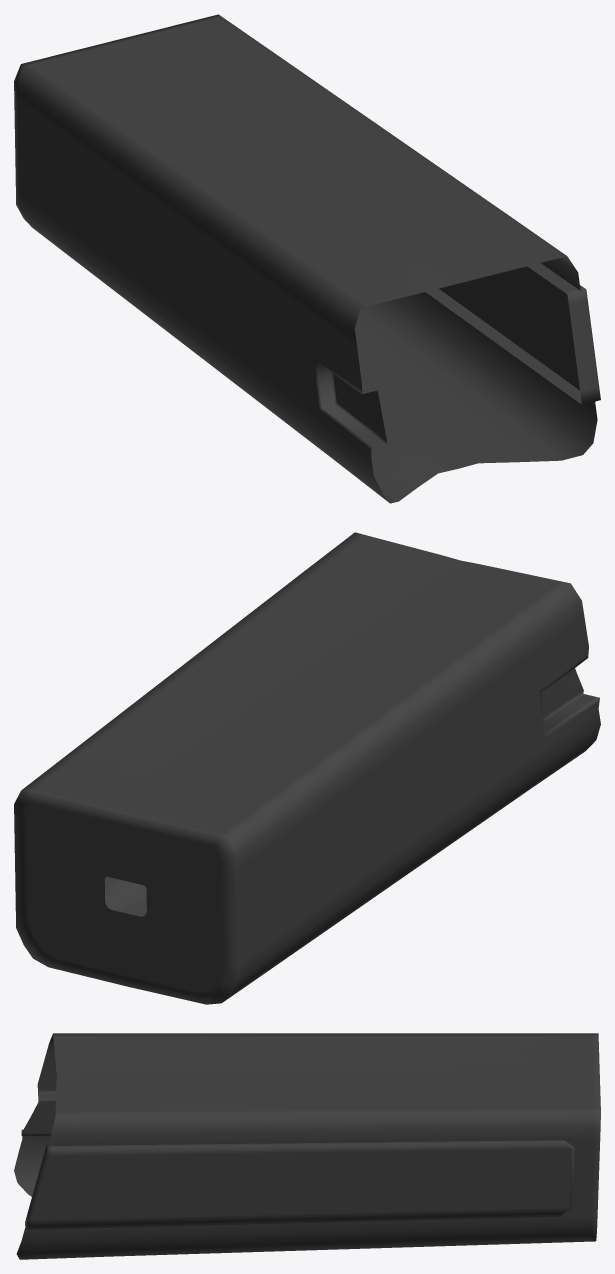
The picture shows the model from 3 angles, top to bottom: view 1: azimuth 30°, elevation 25°; view 2: azimuth 150°, elevation 25°; view 3: azimuth 270°, elevation 25°; orthographic projection. The views are drawn at different scales.
Parts seen in each view (by area): view 1: link4; view 2: link4; view 3: link4.
Boxes of the visible parts, x1,y1,x2,y2 form: link4: (14,14,600,503); link4: (14,532,600,1004); link4: (14,1033,600,1259).
Bounding box in the file's own units: 0.6292 × 1.69 × 0.4919.
Materials: 1 (1 with a texture image).
